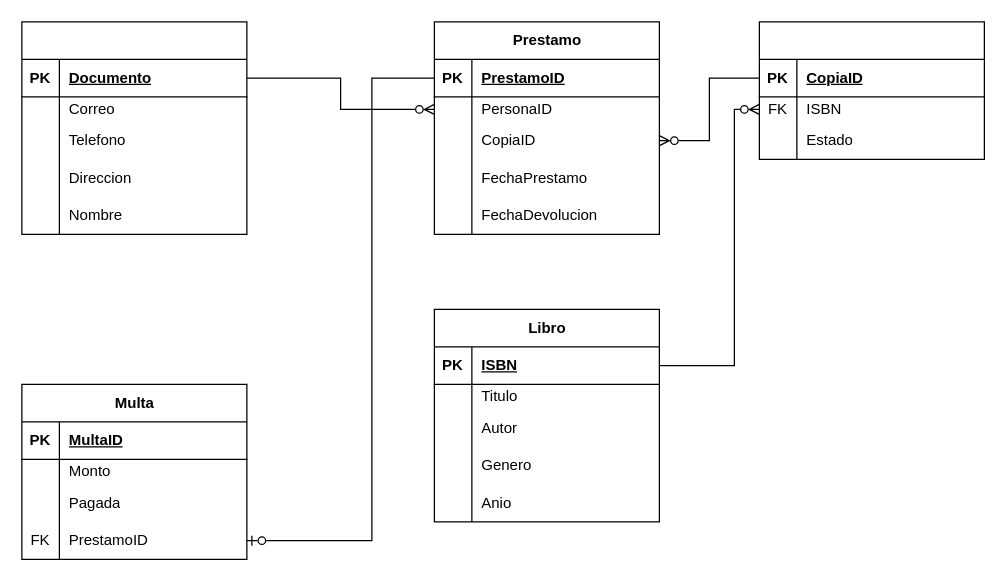
Image size: 1006x581. Some labels were removed from this diagram. The box of each missing label's shape, as (x1, y1, x2, y2) in pixels:
CopiaLibro: (758, 21, 984, 159)
Persona: (21, 21, 247, 234)
